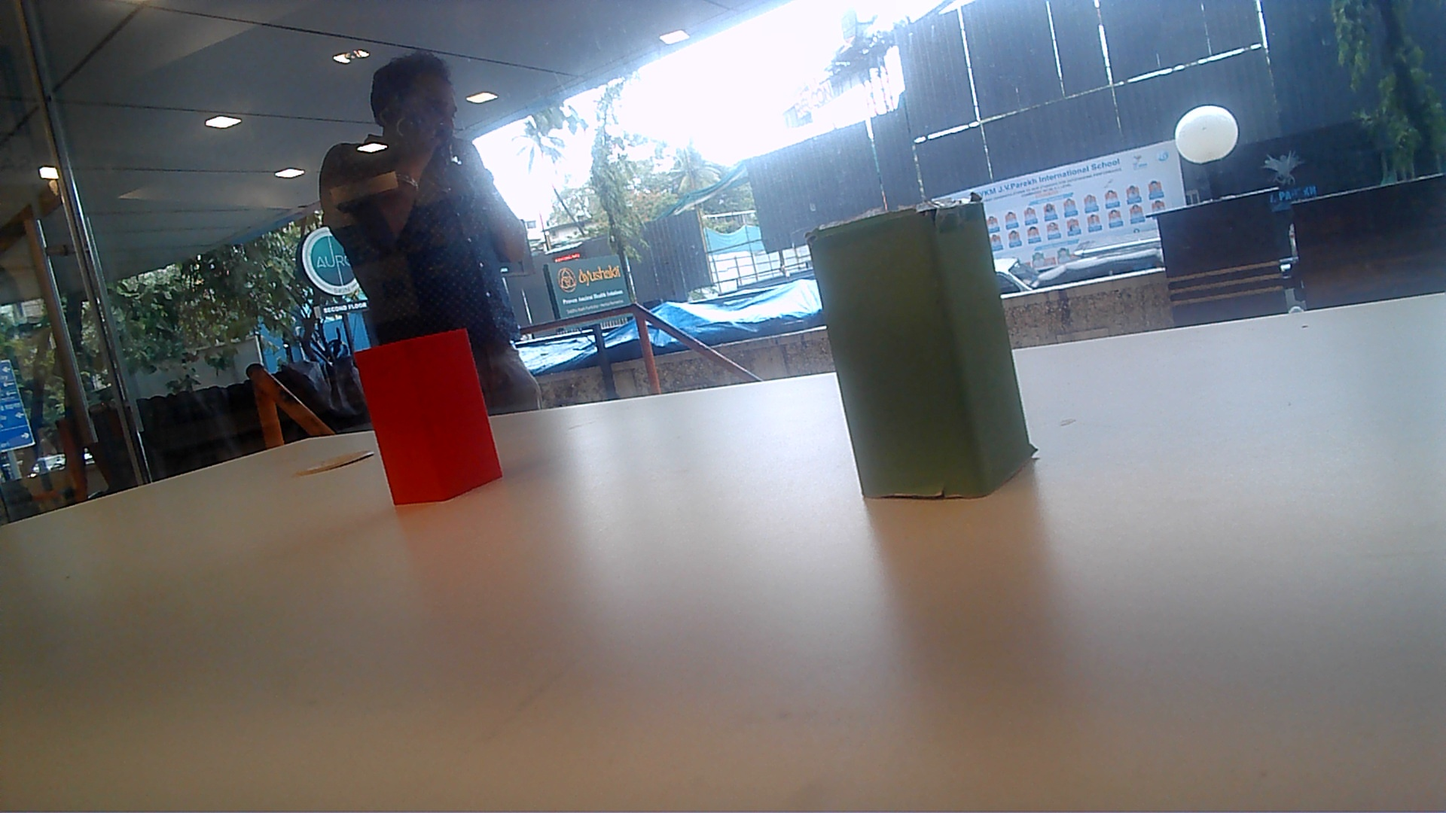green: (804, 199, 1033, 518)
